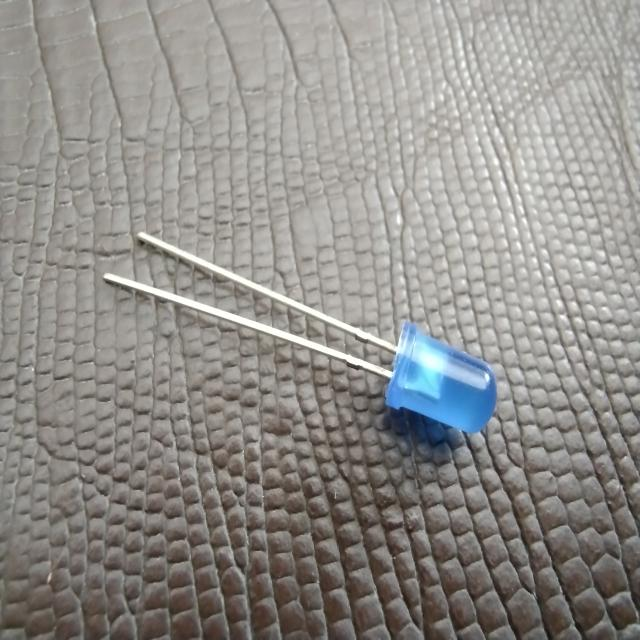blue_led: (384, 319, 498, 434)
